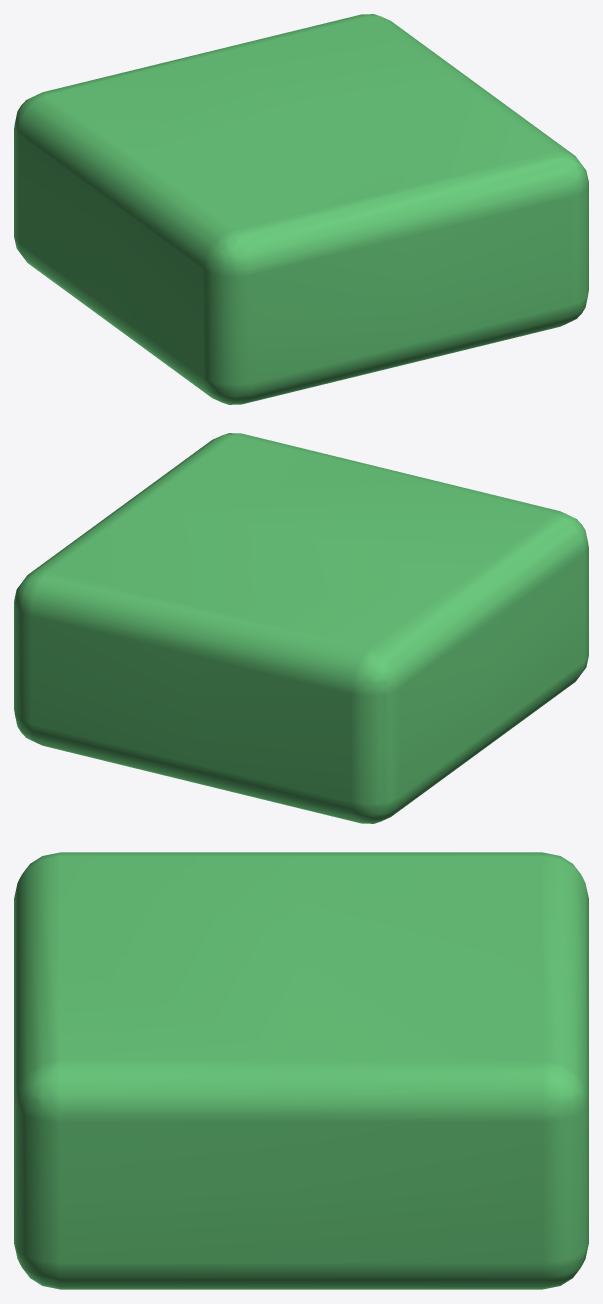
The model's file is recipe-jello-cube.glb.
3 renders of one model, top to bottom at view 1: azimuth 30°, elevation 25°; view 2: azimuth 150°, elevation 25°; view 3: azimuth 270°, elevation 25°, orthographic. The views are drawn at different scales.
Parts seen in each view (by area): view 1: Jello terrace cube; view 2: Jello terrace cube; view 3: Jello terrace cube.
Part boxes in pixels (x1,y1,x2,y2): Jello terrace cube: [14, 14, 588, 404]; Jello terrace cube: [14, 433, 588, 823]; Jello terrace cube: [14, 852, 588, 1289].
Bounding box in the file's own units: 6 × 2.7 × 6.
